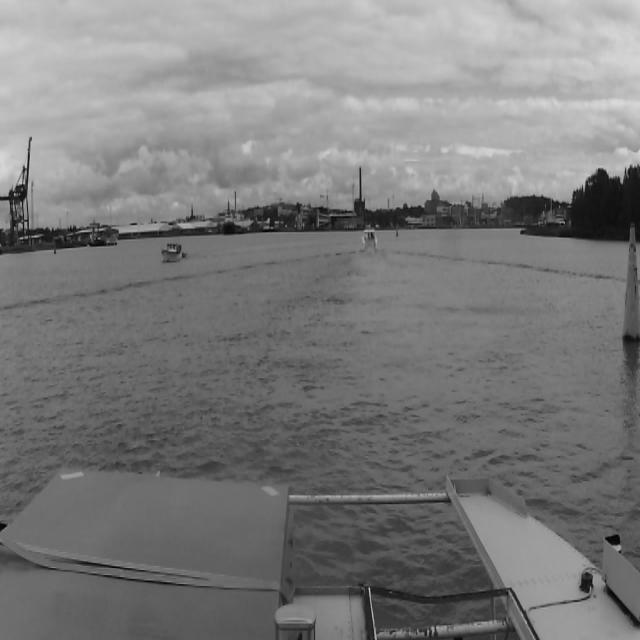buoy: (623, 222, 640, 344), (395, 222, 399, 238)
ship: (221, 200, 237, 236), (162, 242, 184, 261), (360, 228, 377, 252)
